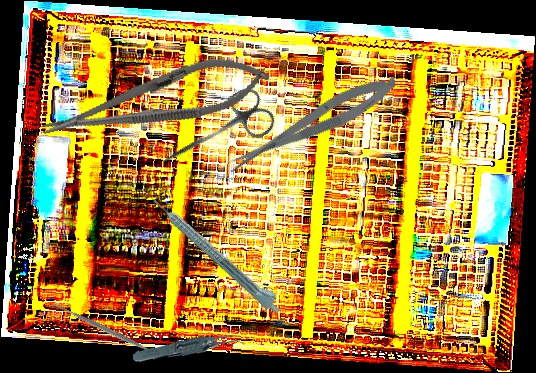Handpiece: (150, 190, 287, 317)
Iris Scissors: (150, 82, 280, 187)
Micro Scissor: (220, 68, 404, 179)
Needle Holder: (35, 44, 276, 156)
Spatula Surgical: (47, 296, 166, 364)
Tissue Forceps: (132, 328, 247, 370)
